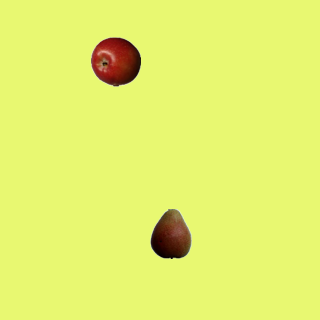Apple Braeburn: (90, 36, 140, 86)
Pear Forelle: (145, 208, 195, 258)
